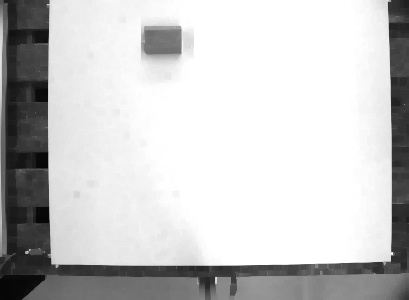b1: (141, 23, 185, 56)
